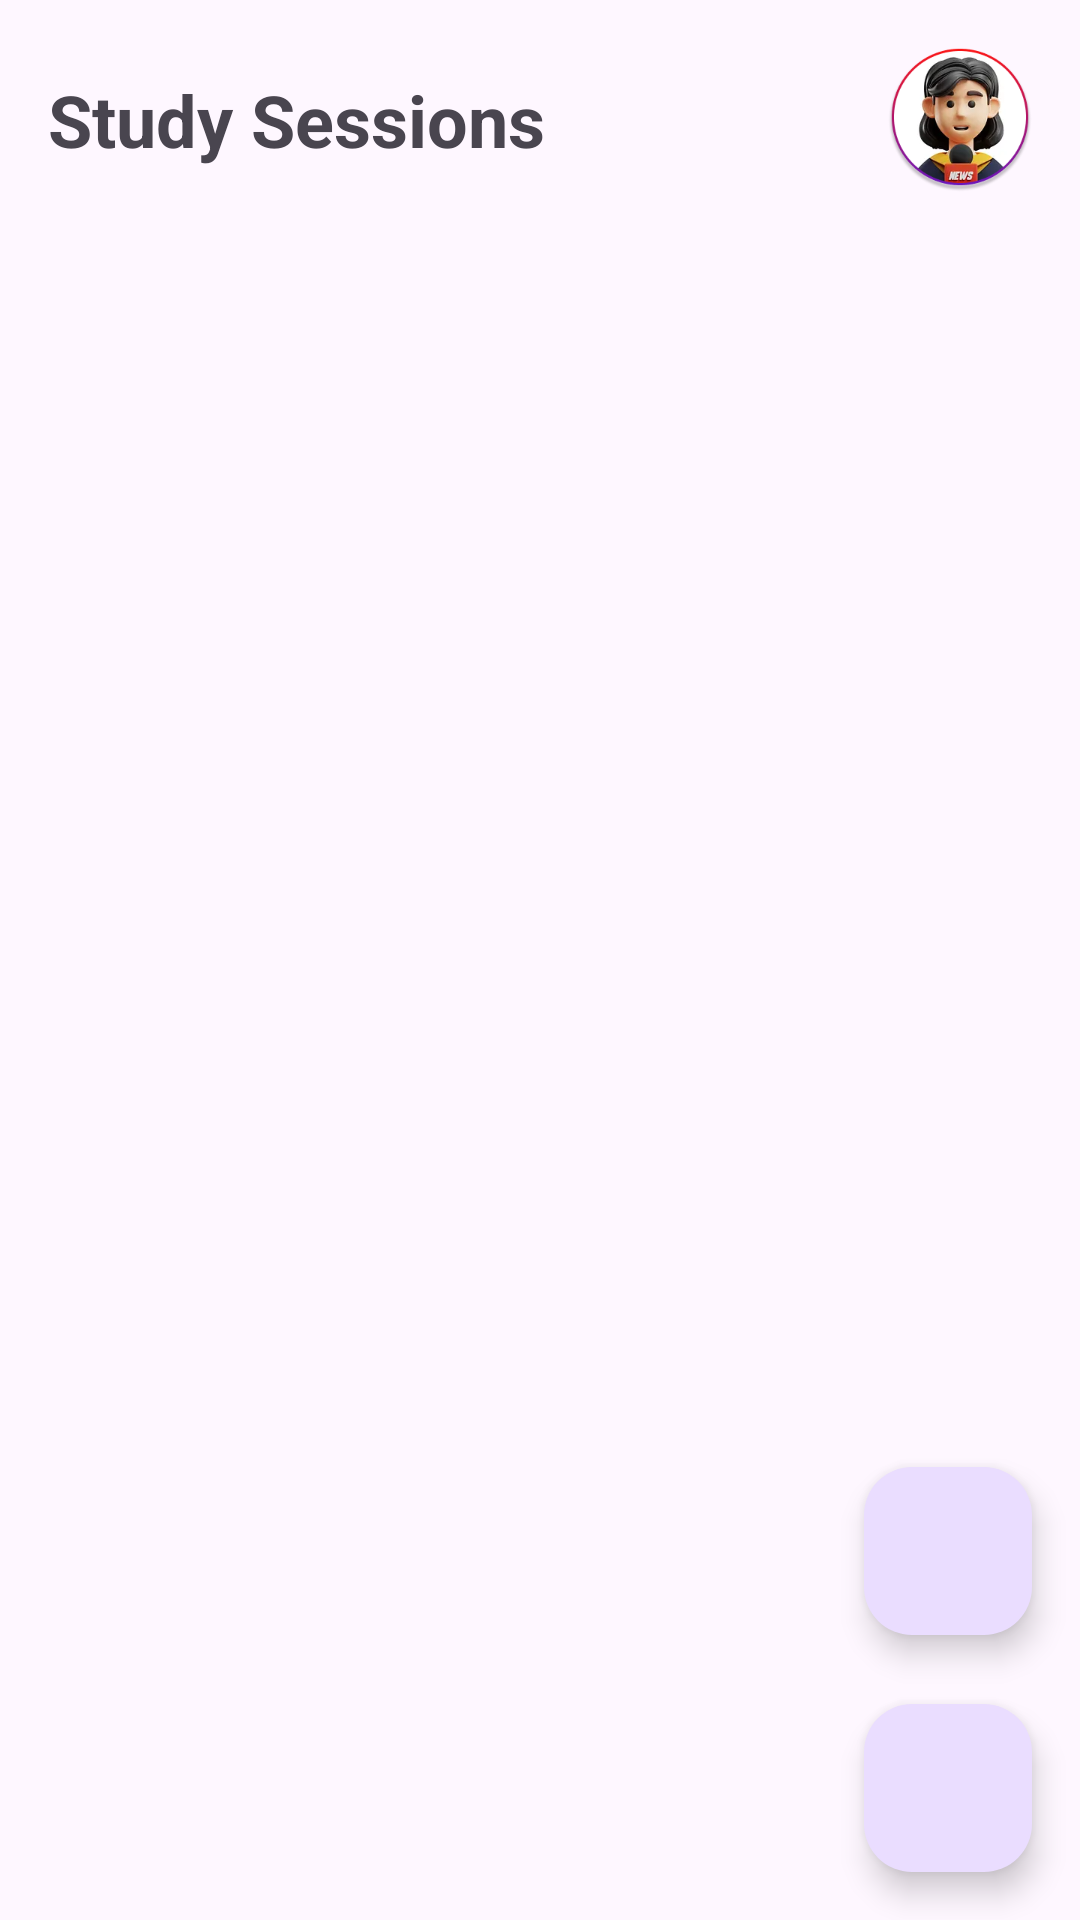

Point at icon controls on the screen. Image size 1080x1920, points as (x=x, y=y).
female: (x=960, y=118)
